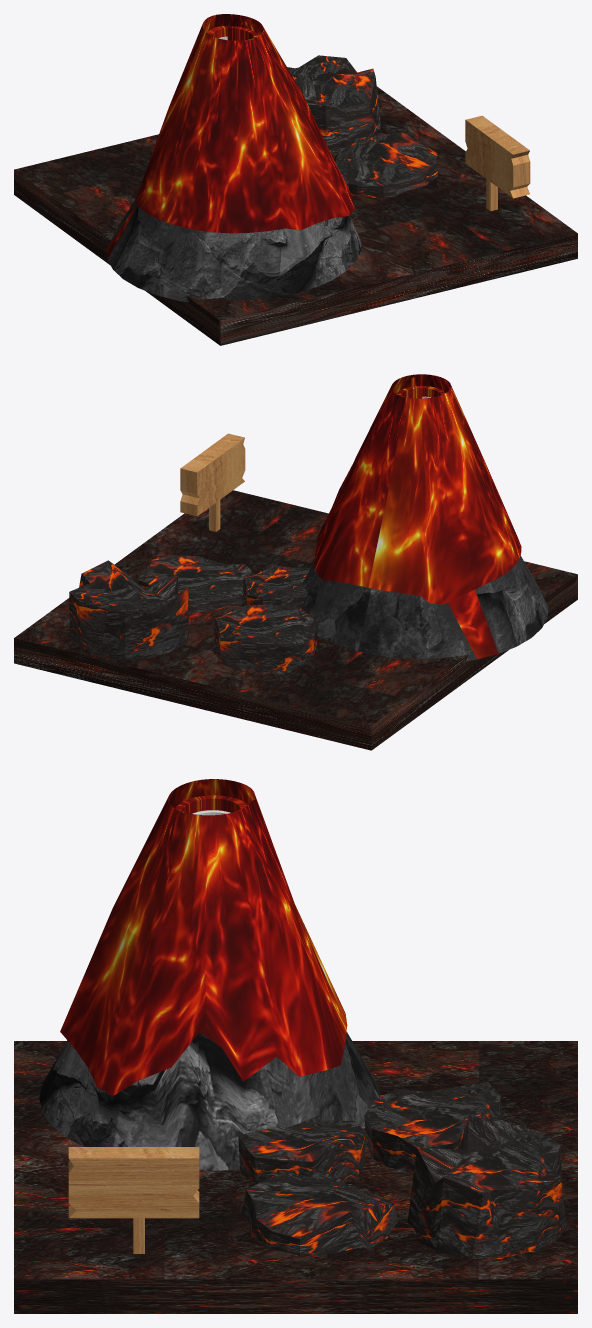
Rendered from entornoLava.glb.
The picture shows the model from 3 angles, top to bottom: view 1: azimuth 30°, elevation 25°; view 2: azimuth 150°, elevation 25°; view 3: azimuth 270°, elevation 25°; orthographic projection. The views are drawn at different scales.
Parts seen in each view (by area): view 1: Cube, Cylinder.005, Cylinder.006, Cylinder.004, Cylinder.001, Cube.001; view 2: Cube, Cylinder.005, Cylinder.006, Cylinder.004, Cylinder.002, Cylinder.001, Cube.001, Cylinder.003; view 3: Cube, Cylinder.005, Cylinder.006, Cylinder.004, Cube.001, Cylinder.001, Cylinder.002, Cylinder.003.
Part boxes in pixels (bbox=[...]): Cube: bbox=[14, 86, 577, 345]; Cylinder.005: bbox=[106, 14, 354, 258]; Cylinder.006: bbox=[107, 199, 361, 302]; Cylinder.004: bbox=[287, 55, 381, 151]; Cylinder.001: bbox=[334, 132, 437, 198]; Cube.001: bbox=[465, 115, 530, 211]; Cube: bbox=[14, 490, 577, 750]; Cylinder.005: bbox=[314, 374, 521, 659]; Cylinder.006: bbox=[301, 556, 548, 661]; Cylinder.004: bbox=[69, 560, 188, 659]; Cylinder.002: bbox=[213, 604, 317, 672]; Cylinder.001: bbox=[136, 555, 254, 612]; Cube.001: bbox=[180, 433, 245, 531]; Cylinder.003: bbox=[242, 565, 310, 610]; Cube: bbox=[14, 1041, 577, 1313]; Cylinder.005: bbox=[60, 779, 347, 1095]; Cylinder.006: bbox=[39, 1032, 379, 1170]; Cylinder.004: bbox=[407, 1115, 566, 1258]; Cube.001: bbox=[68, 1147, 199, 1253]; Cylinder.001: bbox=[241, 1173, 397, 1255]; Cylinder.002: bbox=[364, 1082, 505, 1172]; Cylinder.003: bbox=[238, 1115, 365, 1183].
Size of the model in its own units: 12.22 by 7.52 by 11.41.
5 materials, 5 textured.
